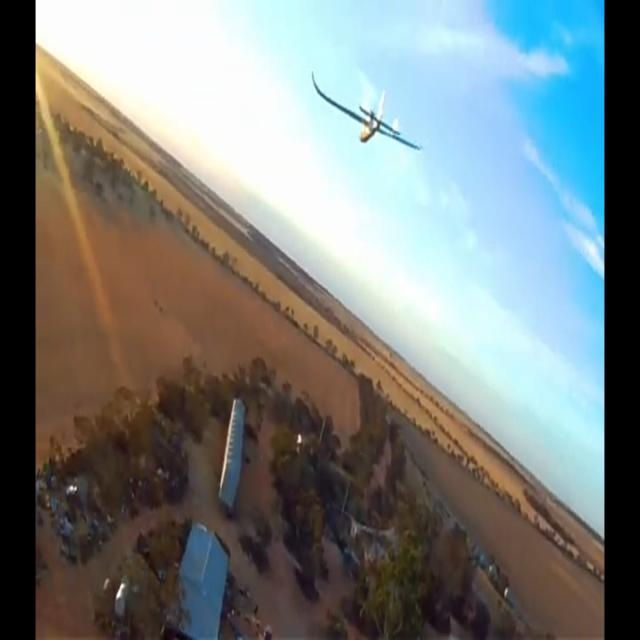iha: (343, 37, 392, 56)
